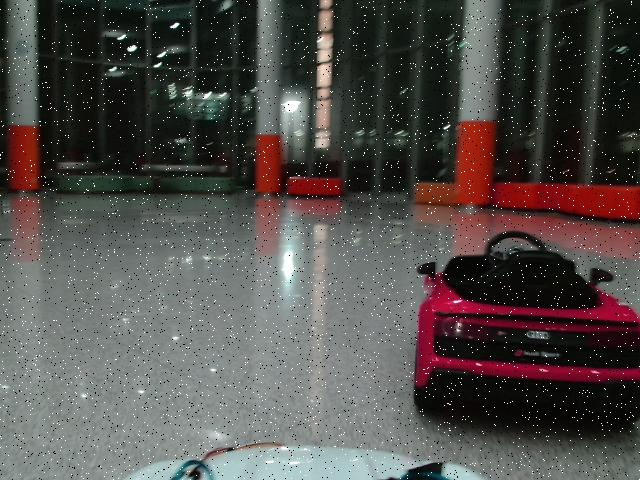car: (412, 229, 640, 422)
